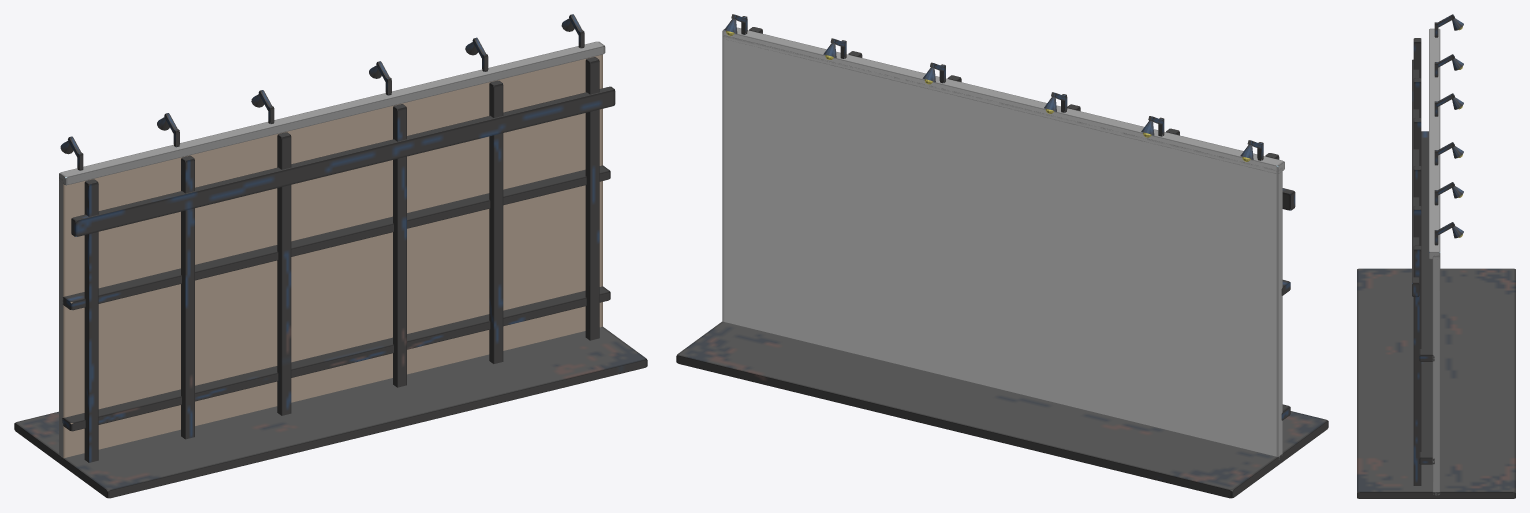
The model's file is Billboard.fbx.
3 views of the same model, side by side, from view 1: azimuth 30°, elevation 25°; view 2: azimuth 150°, elevation 25°; view 3: azimuth 270°, elevation 25° (orthographic). The views are drawn at different scales.
Parts seen in each view (by area): view 1: cuboid, cuboid_1, cuboid_9, cuboid_8, cuboid_11, cuboid_10, cuboid_6, cuboid_2, cuboid_3, cuboid_4, cuboid_5, cuboid_7; view 2: cuboid, cuboid_1, cuboid_8; view 3: cuboid_1, cuboid_8, cuboid_10, cuboid, cuboid_3, cuboid_11, cuboid_9, cuboid_6, cuboid_2, cuboid_4, cuboid_7, cuboid_5.
Boxes of the visible parts, x1=… form: cuboid: x1=59, y1=54, x2=602, y2=458; cuboid_1: x1=14, y1=326, x2=647, y2=498; cuboid_9: x1=71, y1=86, x2=615, y2=236; cuboid_8: x1=59, y1=41, x2=605, y2=185; cuboid_11: x1=62, y1=286, x2=610, y2=431; cuboid_10: x1=63, y1=165, x2=610, y2=310; cuboid_6: x1=277, y1=132, x2=291, y2=415; cuboid_2: x1=84, y1=179, x2=98, y2=462; cuboid_3: x1=585, y1=57, x2=599, y2=340; cuboid_4: x1=489, y1=80, x2=503, y2=363; cuboid_5: x1=181, y1=155, x2=194, y2=439; cuboid_7: x1=393, y1=104, x2=406, y2=387; cuboid: x1=722, y1=35, x2=1282, y2=459; cuboid_1: x1=676, y1=321, x2=1328, y2=498; cuboid_8: x1=722, y1=27, x2=1284, y2=173; cuboid_1: x1=1357, y1=268, x2=1515, y2=498; cuboid_8: x1=1429, y1=28, x2=1440, y2=259; cuboid_10: x1=1419, y1=131, x2=1434, y2=361; cuboid: x1=1432, y1=252, x2=1440, y2=495; cuboid_3: x1=1413, y1=245, x2=1421, y2=485; cuboid_11: x1=1419, y1=362, x2=1434, y2=464; cuboid_9: x1=1412, y1=59, x2=1419, y2=296; cuboid_6: x1=1413, y1=118, x2=1421, y2=165; cuboid_2: x1=1413, y1=38, x2=1421, y2=77; cuboid_4: x1=1413, y1=206, x2=1421, y2=245; cuboid_7: x1=1413, y1=166, x2=1421, y2=205; cuboid_5: x1=1413, y1=78, x2=1421, y2=117.
Size of the model in its own units: 175 by 98 by 52.5.
1 material, 1 textured.
